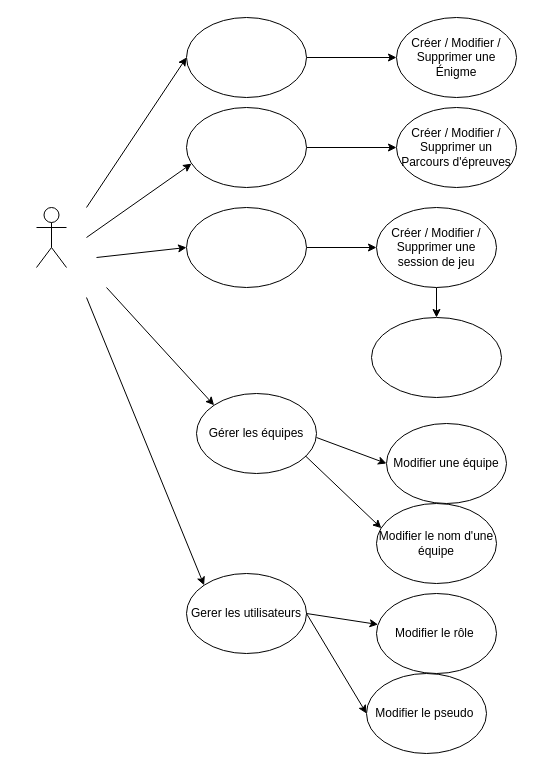
Image size: 534x771. Some labels were removed from this diagram. The shapes that lost their labels are listed below. From the top down, each one's box as (x1, y1, x2, y2) in pixels, then its label:
(186, 16, 306, 98): Gérer les épreuves
(186, 106, 306, 188): Gérer les parcours
(36, 206, 66, 268): Organisateur
(186, 206, 306, 288): Gérer les sessions de jeu
(370, 316, 502, 398): Créer la session crée un planning automatiquement
